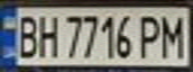1: (97, 11, 118, 58)
6: (115, 11, 139, 60)
7: (60, 11, 84, 58), (78, 11, 100, 58)
B: (9, 11, 42, 60)
H: (33, 11, 60, 60)
M: (157, 11, 190, 58)
P: (136, 11, 166, 58)
